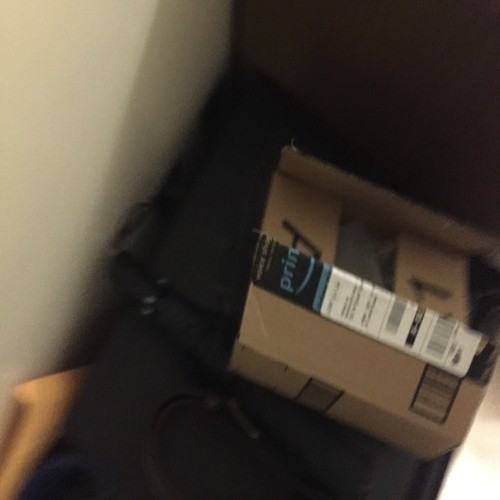box: (229, 140, 500, 460)
